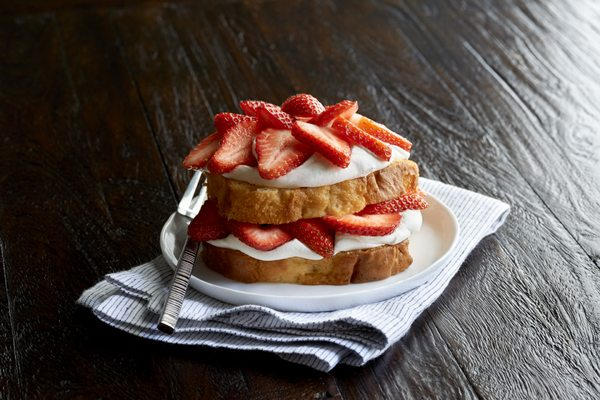soup: (186, 92, 428, 285)
